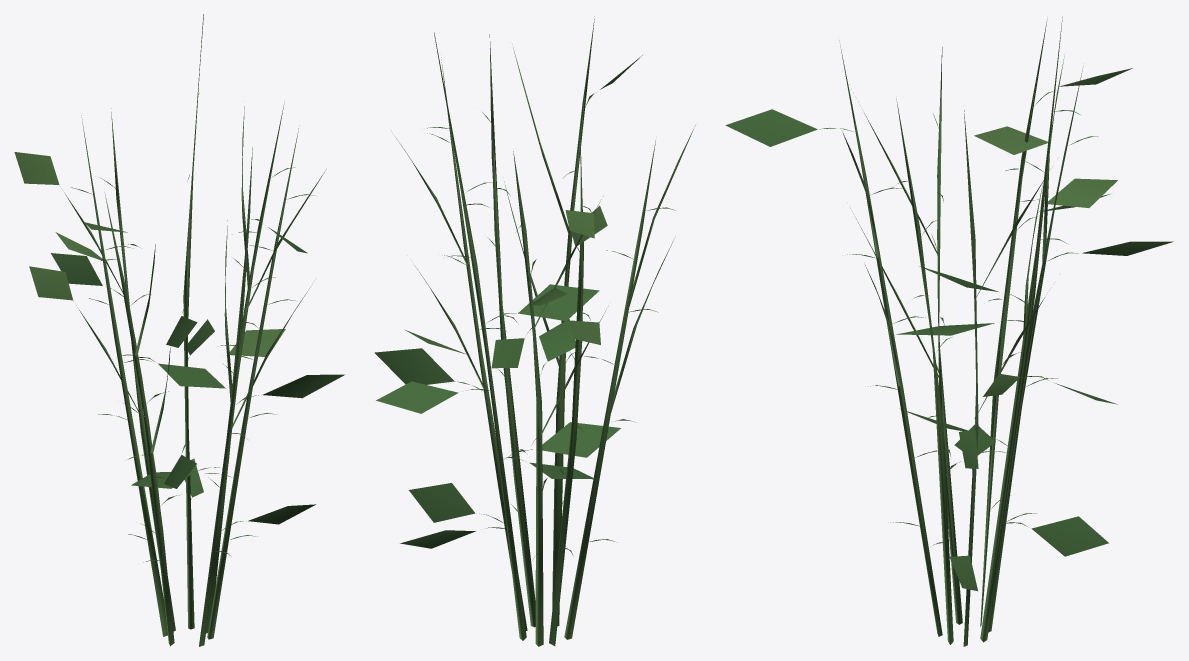
Rendered from Fragon_2_Niveau2.fbx.
3 renders of one model, left to right at view 1: azimuth 30°, elevation 25°; view 2: azimuth 150°, elevation 25°; view 3: azimuth 270°, elevation 25°, orthographic. The views are drawn at different scales.
Parts seen in each view (by area): view 1: Fragon_2_Niveau2; view 2: Fragon_2_Niveau2; view 3: Fragon_2_Niveau2.
Part boxes in pixels (x1=…): Fragon_2_Niveau2: x1=14, y1=14, x2=344, y2=646; Fragon_2_Niveau2: x1=374, y1=16, x2=695, y2=646; Fragon_2_Niveau2: x1=725, y1=17, x2=1173, y2=646.
Size of the model in its own units: 27.93 by 57.45 by 35.96.
